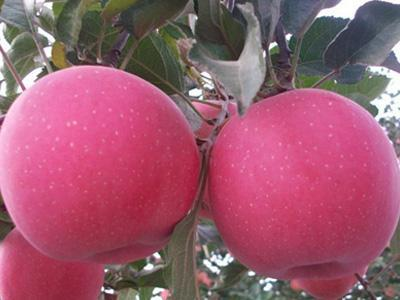apple: (1, 66, 202, 270), (201, 87, 400, 284)
